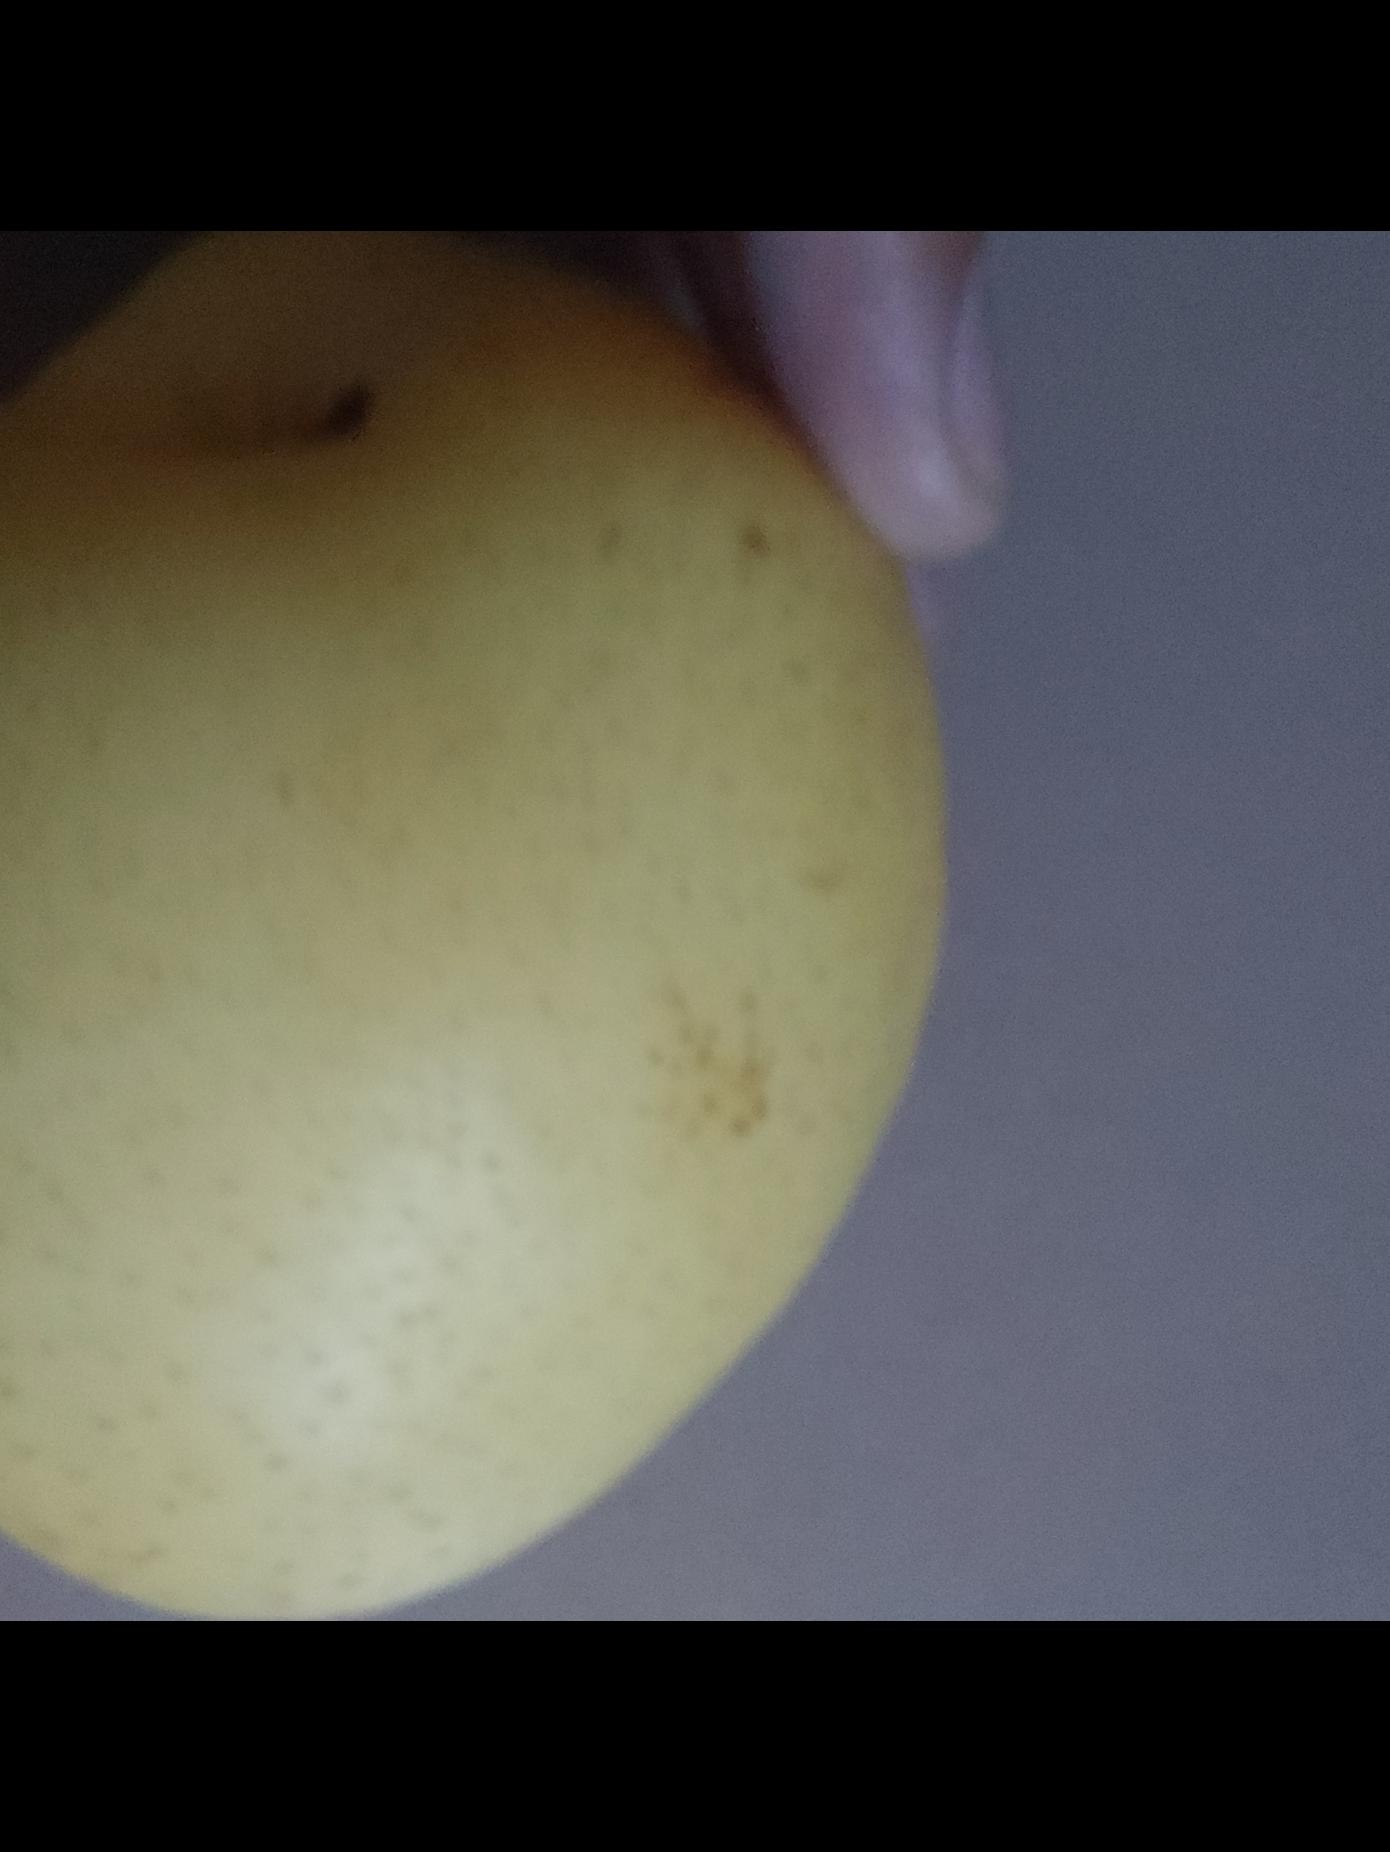Good Pear: (0, 231, 962, 1621)
